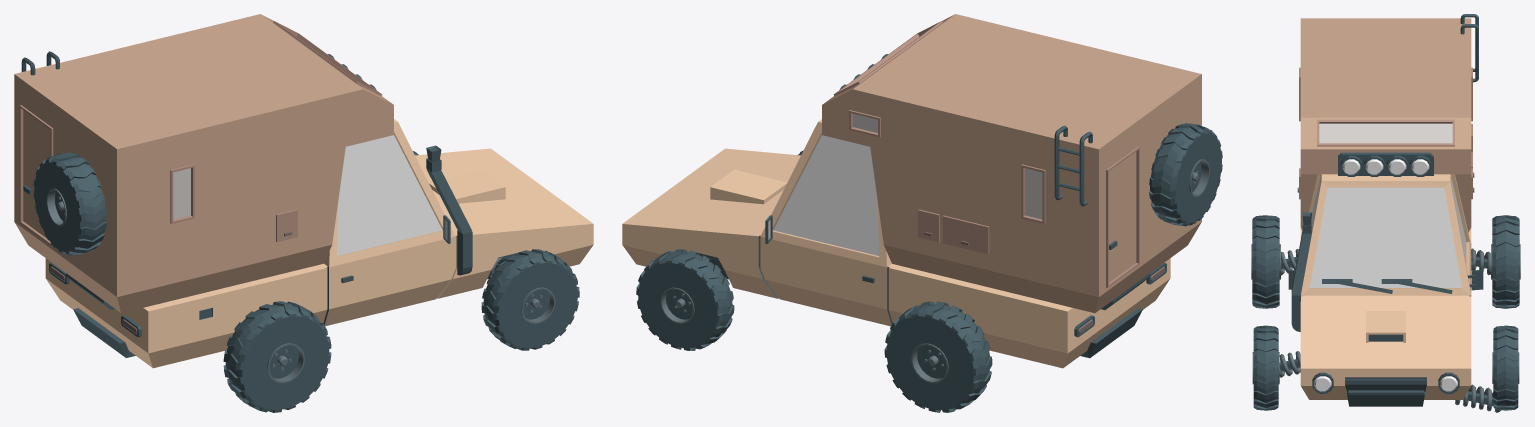
The model's file is car.gltf.
3 renders of one model, left to right at view 1: azimuth 30°, elevation 25°; view 2: azimuth 150°, elevation 25°; view 3: azimuth 270°, elevation 25°, orthographic. The views are drawn at different scales.
Parts seen in each view (by area): view 1: Frame, Rear_wheel_right, Front_wheel_right; view 2: Frame, Rear_wheel_left, Front_wheel_left; view 3: Frame, Rear_wheel_right, Rear_wheel_left, Front_wheel_right, Front_wheel_left, Spring, Spring.002, Spring.001, Spring.003.
Part boxes in pixels (box(x1,y1,x2,y2)): Frame: box(14, 14, 593, 368); Rear_wheel_right: box(223, 301, 331, 412); Front_wheel_right: box(481, 249, 579, 350); Frame: box(622, 14, 1222, 368); Rear_wheel_left: box(884, 301, 992, 412); Front_wheel_left: box(636, 249, 734, 350); Frame: box(1288, 14, 1483, 406); Rear_wheel_right: box(1251, 215, 1280, 308); Rear_wheel_left: box(1491, 215, 1520, 308); Front_wheel_right: box(1252, 325, 1279, 410); Front_wheel_left: box(1492, 325, 1519, 410); Spring: box(1455, 384, 1500, 412); Spring.002: box(1279, 351, 1300, 377); Spring.001: box(1471, 248, 1490, 275); Spring.003: box(1281, 249, 1298, 275).
Size of what is drawn, in the model's own units: 5.75 by 3.17 by 3.16.
